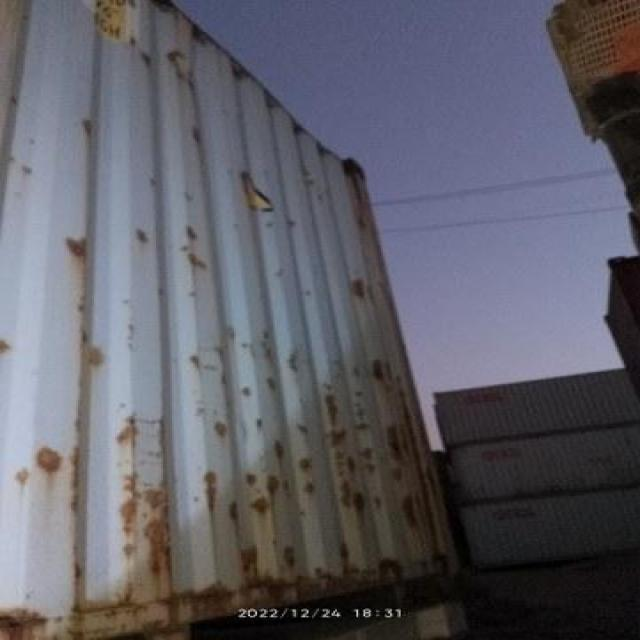Rust: (133, 556, 454, 599), (396, 428, 431, 510), (134, 500, 182, 559), (243, 486, 285, 512), (348, 285, 385, 307), (352, 484, 375, 519), (380, 360, 394, 394)
